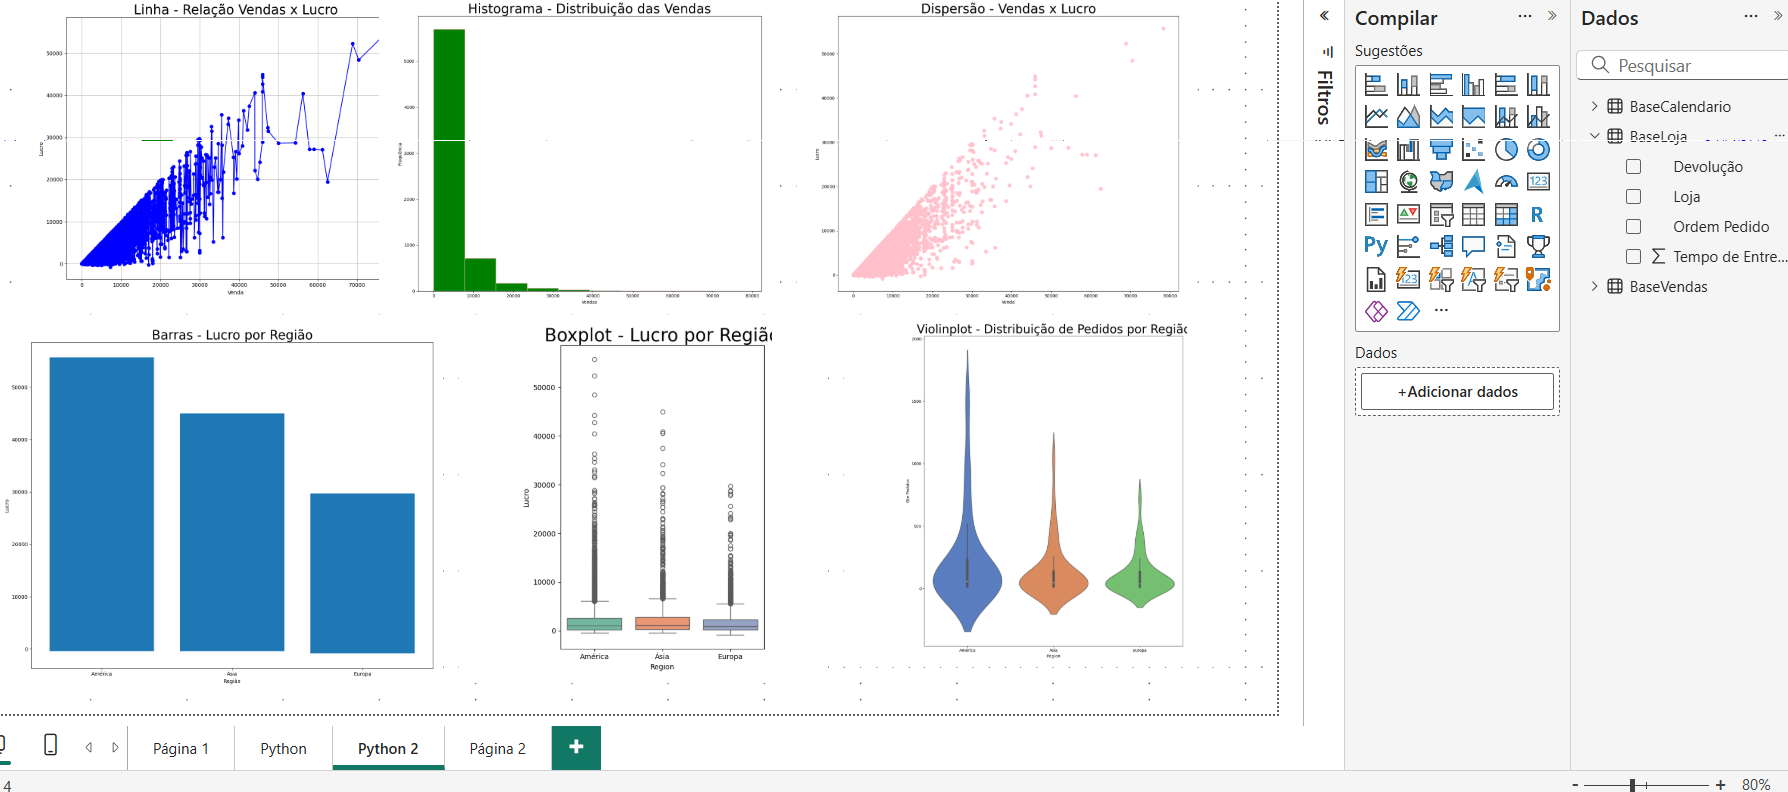

The page's visual inventory and layout, read from the dashboard file:
{"tool":"powerbi","page":{"name":"Python 2","canvas":[1280,720],"ordinal":2},"visuals":[{"type":"pythonVisual","fields":{"Values":["BaseVendas.Venda","BaseVendas.Lucro"]},"box":[24,0,408,312],"z":0},{"type":"pythonVisual","fields":{"Values":["BaseVendas.Region","BaseVendas.Lucro"]},"box":[0,320,448,384],"z":1000},{"type":"pythonVisual","fields":{"Values":["BaseVendas.Venda"]},"box":[384,0,400,320],"z":2000},{"type":"pythonVisual","fields":{"Values":["BaseVendas.Venda","BaseVendas.Lucro"]},"box":[800,0,400,320],"z":3000},{"type":"pythonVisual","fields":{"Values":["BaseVendas.Region","BaseVendas.Lucro"]},"box":[464,320,368,368],"z":4000},{"type":"pythonVisual","fields":{"Values":["BaseVendas.Qte Pedidos","BaseVendas.Region"]},"box":[848,320,400,352],"z":5000}]}

Visuals, with their boxes on the page's 1280x720 design canvas (x1, y1, x2, y2). These are canvas units, not pixel positions in the 1788x792 screenshot, which may show the page scaled, cropped or inside an application window:
pythonVisual - BaseVendas.Venda x BaseVendas.Lucro: left=24, top=0, right=432, bottom=312
pythonVisual - BaseVendas.Region x BaseVendas.Lucro: left=0, top=320, right=448, bottom=704
pythonVisual - BaseVendas.Venda: left=384, top=0, right=784, bottom=320
pythonVisual - BaseVendas.Venda x BaseVendas.Lucro: left=800, top=0, right=1200, bottom=320
pythonVisual - BaseVendas.Region x BaseVendas.Lucro: left=464, top=320, right=832, bottom=688
pythonVisual - BaseVendas.Qte Pedidos x BaseVendas.Region: left=848, top=320, right=1248, bottom=672
